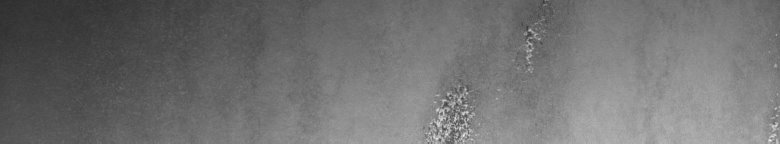hc: (423, 4, 560, 136)
